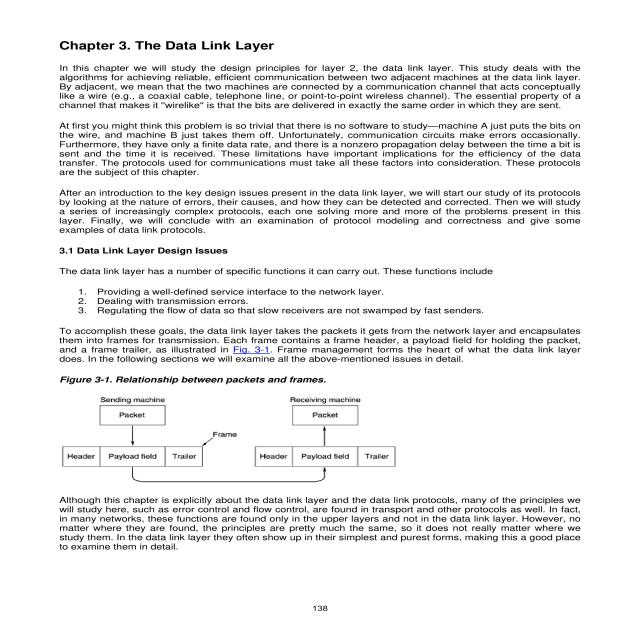diagram: (34, 372, 447, 486)
